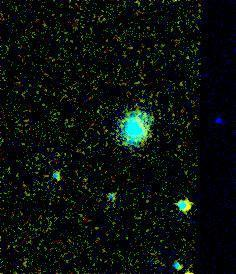star: (174, 258, 204, 274)
